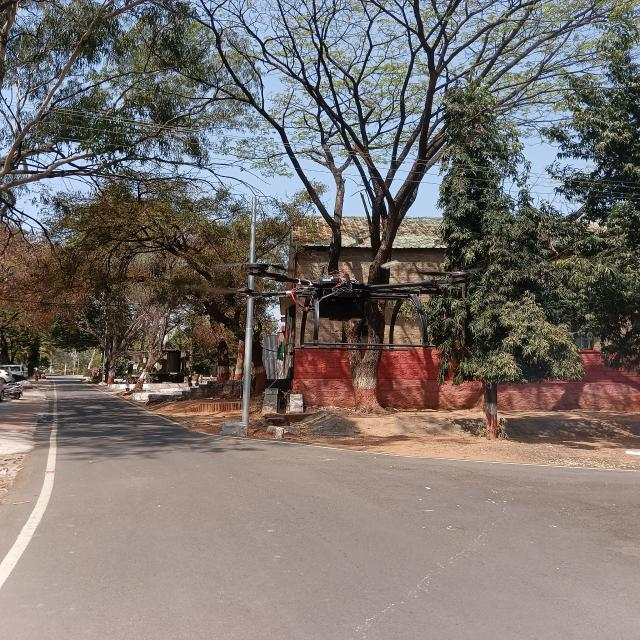drone: (196, 250, 495, 365)
